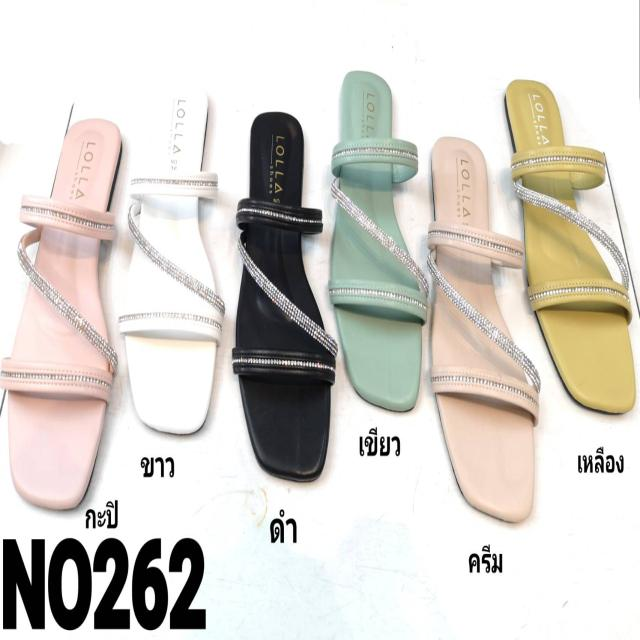black: (234, 114, 332, 471)
cream: (426, 138, 541, 528)
green: (328, 71, 420, 409)
kapi: (11, 115, 118, 507)
white: (122, 77, 220, 430)
yellow: (504, 82, 636, 416)
